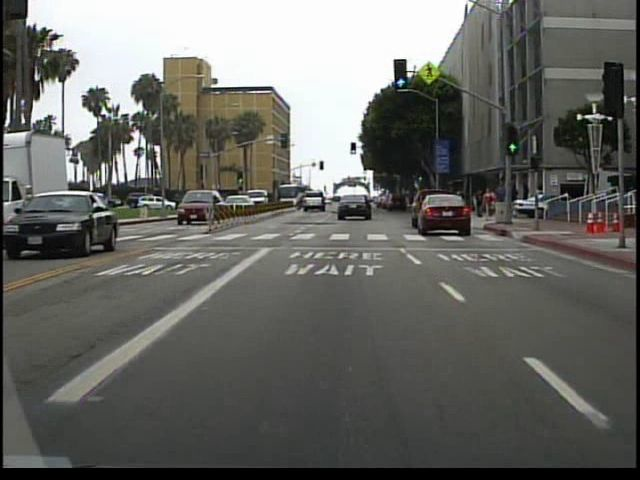person: (479, 186, 495, 224), (504, 183, 519, 217), (495, 182, 508, 219)
